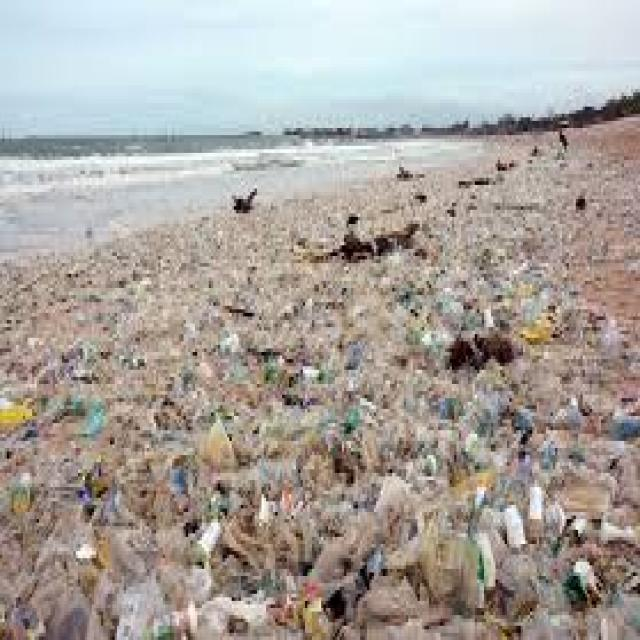heap: (155, 335, 602, 620)
